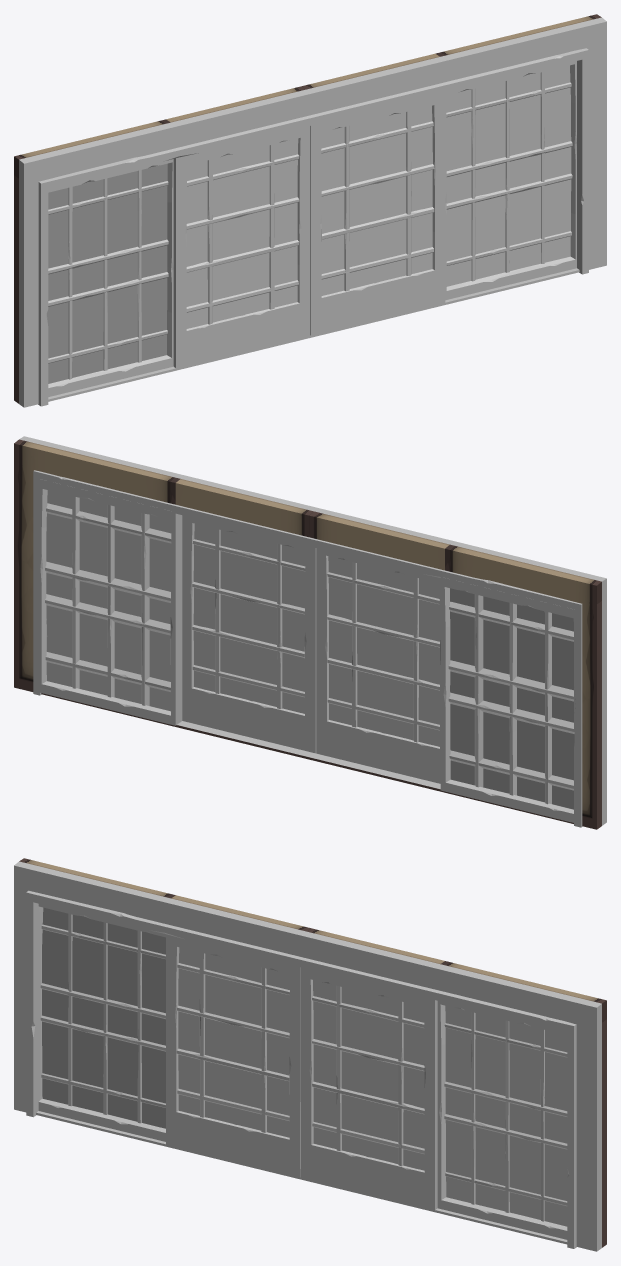
Rendered from SM_Bld_Sliding_Door_02.fbx.
3 renders of one model, top to bottom at view 1: azimuth 30°, elevation 25°; view 2: azimuth 150°, elevation 25°; view 3: azimuth 330°, elevation 25°, orthographic.
Visible parts, largest first — view 1: SM_Bld_Sliding_Door_02, SM_Bld_Sliding_Door_02_Glass, SM_Bld_Sliding_Door_02_Door_L, SM_Bld_Sliding_Door_02_Door_R, SM_Bld_Sliding_Door_02_Door_R_Glass, SM_Bld_Sliding_Door_02_Door_L_Glass; view 2: SM_Bld_Sliding_Door_02, SM_Bld_Sliding_Door_02_Glass, SM_Bld_Sliding_Door_02_Door_R_Glass, SM_Bld_Sliding_Door_02_Door_L_Glass, SM_Bld_Sliding_Door_02_Door_R, SM_Bld_Sliding_Door_02_Door_L; view 3: SM_Bld_Sliding_Door_02, SM_Bld_Sliding_Door_02_Glass, SM_Bld_Sliding_Door_02_Door_R, SM_Bld_Sliding_Door_02_Door_L, SM_Bld_Sliding_Door_02_Door_R_Glass, SM_Bld_Sliding_Door_02_Door_L_Glass.
Boxes of the visible parts, x1,y1,x2,y2 form: SM_Bld_Sliding_Door_02: (14,14,606,407); SM_Bld_Sliding_Door_02_Glass: (46,65,571,383); SM_Bld_Sliding_Door_02_Door_L: (173,126,310,369); SM_Bld_Sliding_Door_02_Door_R: (310,93,445,336); SM_Bld_Sliding_Door_02_Door_R_Glass: (321,105,432,295); SM_Bld_Sliding_Door_02_Door_L_Glass: (186,138,298,328); SM_Bld_Sliding_Door_02: (14,436,606,829); SM_Bld_Sliding_Door_02_Glass: (46,490,574,809); SM_Bld_Sliding_Door_02_Door_R_Glass: (193,523,305,713); SM_Bld_Sliding_Door_02_Door_L_Glass: (328,556,439,746); SM_Bld_Sliding_Door_02_Door_R: (182,515,316,753); SM_Bld_Sliding_Door_02_Door_L: (316,548,440,783); SM_Bld_Sliding_Door_02: (14,858,606,1251); SM_Bld_Sliding_Door_02_Glass: (42,907,567,1226); SM_Bld_Sliding_Door_02_Door_R: (300,967,437,1210); SM_Bld_Sliding_Door_02_Door_L: (166,934,300,1177); SM_Bld_Sliding_Door_02_Door_R_Glass: (313,980,424,1170); SM_Bld_Sliding_Door_02_Door_L_Glass: (178,947,290,1137).
Size of the model in its own units: 750 by 301 by 30.24.
